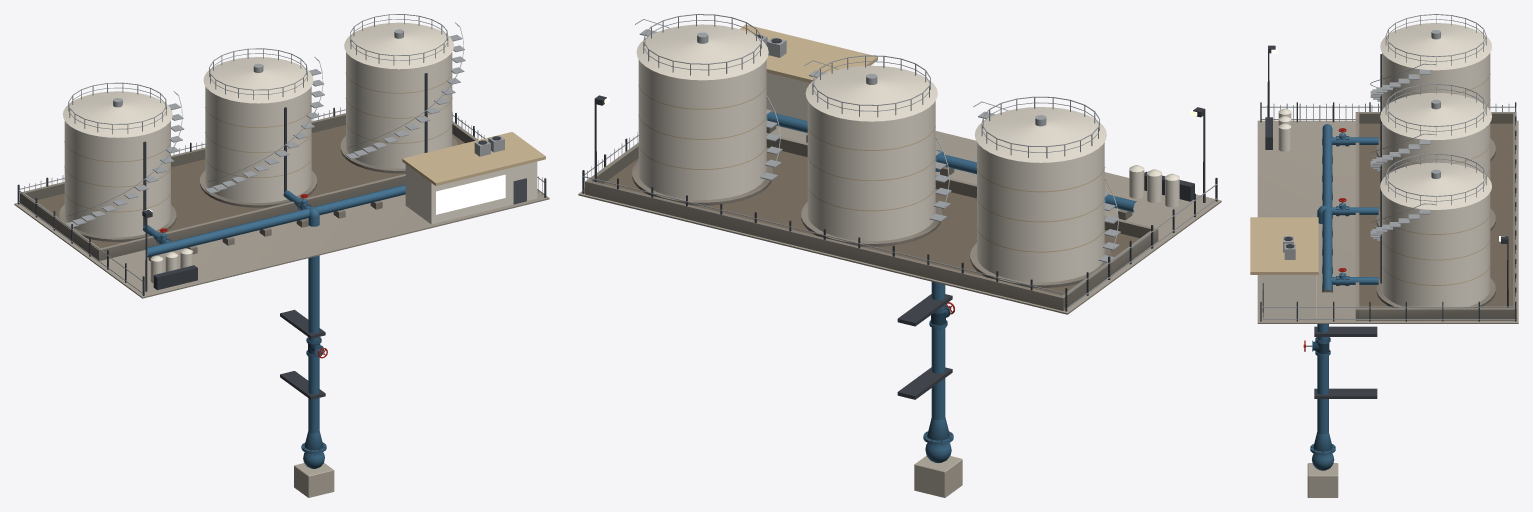
Rendered from desalination-inlet.glb.
3 views of the same model, side by side, from view 1: azimuth 30°, elevation 25°; view 2: azimuth 150°, elevation 25°; view 3: azimuth 270°, elevation 25° (orthographic). The views are drawn at different scales.
Visible parts, largest first — view 1: desalination-inlet_v0, intake_cutaway; view 2: desalination-inlet_v0, intake_cutaway; view 3: desalination-inlet_v0, intake_cutaway.
Boxes of the visible parts, bbox=[...] form: desalination-inlet_v0: bbox=[14, 14, 549, 298]; intake_cutaway: bbox=[280, 255, 334, 497]; desalination-inlet_v0: bbox=[578, 14, 1221, 314]; intake_cutaway: bbox=[897, 282, 962, 497]; desalination-inlet_v0: bbox=[1250, 14, 1518, 323]; intake_cutaway: bbox=[1303, 324, 1377, 497].
Size of the model in its own units: 44 by 39.55 by 24.7.
